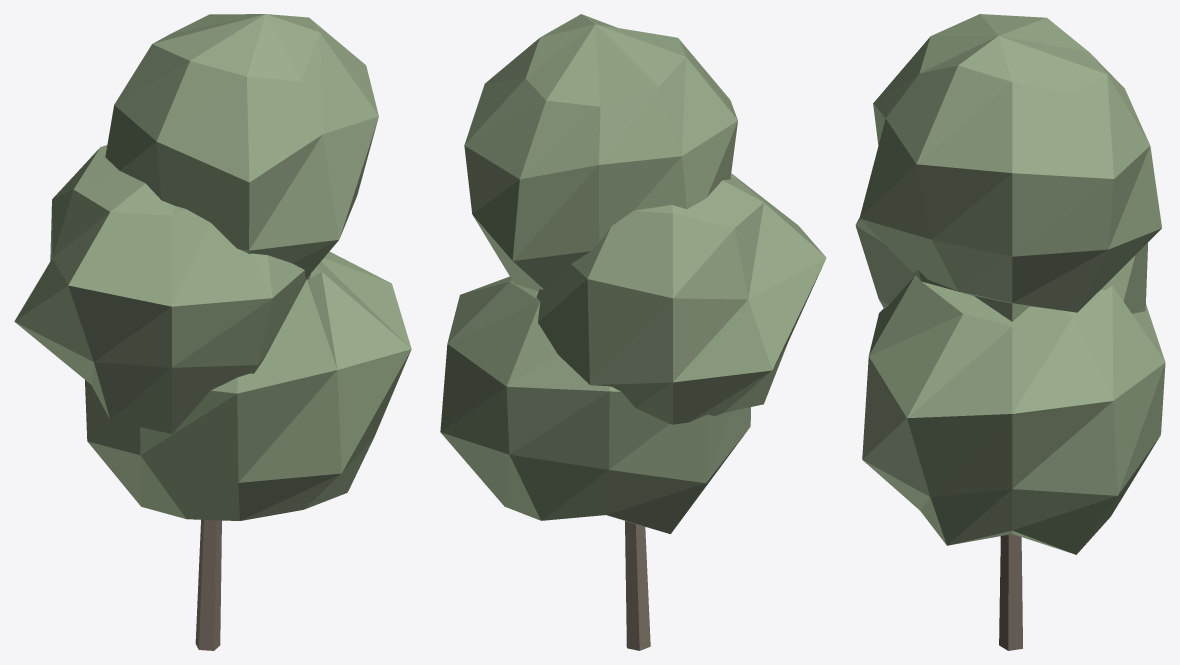
3 views of the same model, side by side, from view 1: azimuth 30°, elevation 25°; view 2: azimuth 150°, elevation 25°; view 3: azimuth 270°, elevation 25° (orthographic). The views are drawn at different scales.
Size of the model in its own units: 2.95 by 5.02 by 2.22.
